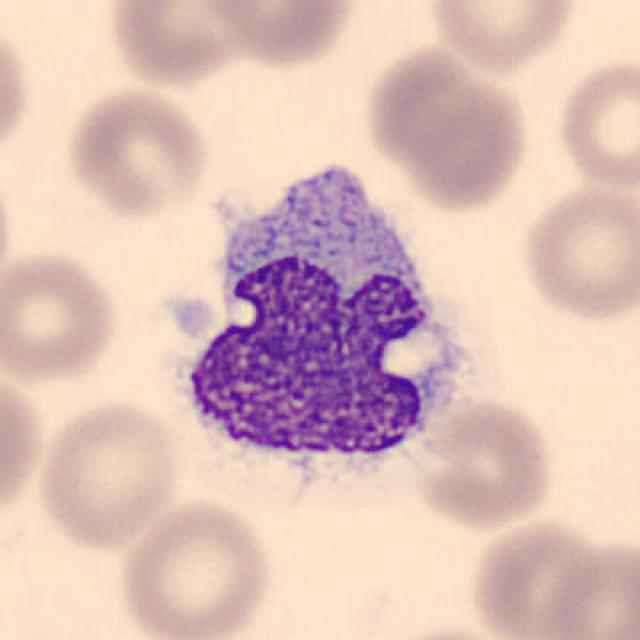Monocyte: (169, 148, 487, 499)
RBC: (363, 42, 533, 217), (113, 493, 277, 640), (32, 397, 183, 552), (398, 393, 558, 533), (60, 83, 214, 222), (466, 517, 628, 638), (0, 245, 123, 388), (516, 180, 638, 324), (103, 0, 260, 90), (425, 0, 581, 76), (553, 55, 638, 192), (204, 0, 361, 71), (537, 532, 640, 640), (0, 362, 48, 526), (0, 14, 34, 169), (370, 622, 537, 640)
